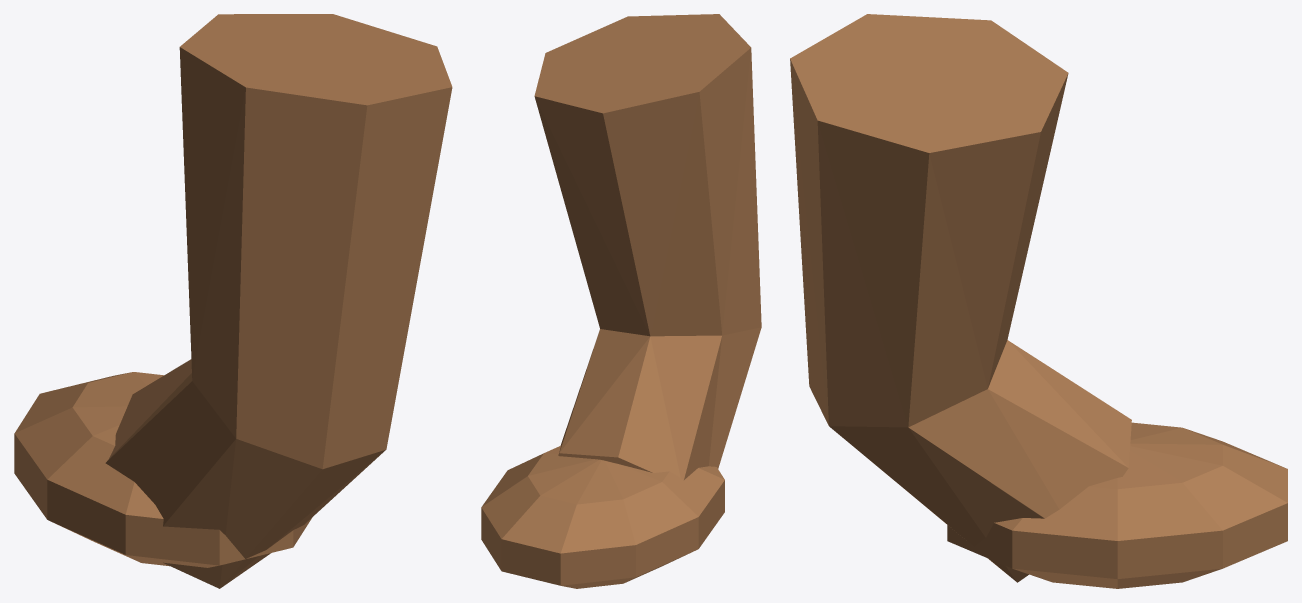
Rendered from gorehulk_e_leg_-1.obj.
3 renders of one model, left to right at view 1: azimuth 30°, elevation 25°; view 2: azimuth 150°, elevation 25°; view 3: azimuth 270°, elevation 25°, orthographic. The views are drawn at different scales.
Parts seen in each view (by area): view 1: gorehulk_e_leg_-1; view 2: gorehulk_e_leg_-1; view 3: gorehulk_e_leg_-1.
Part boxes in pixels (left/top/right/bottom): gorehulk_e_leg_-1: left=14, top=14, right=452, bottom=588; gorehulk_e_leg_-1: left=481, top=14, right=761, bottom=588; gorehulk_e_leg_-1: left=790, top=14, right=1287, bottom=588.
Bounding box in the file's own units: 0.3037 × 0.5594 × 0.4759.
